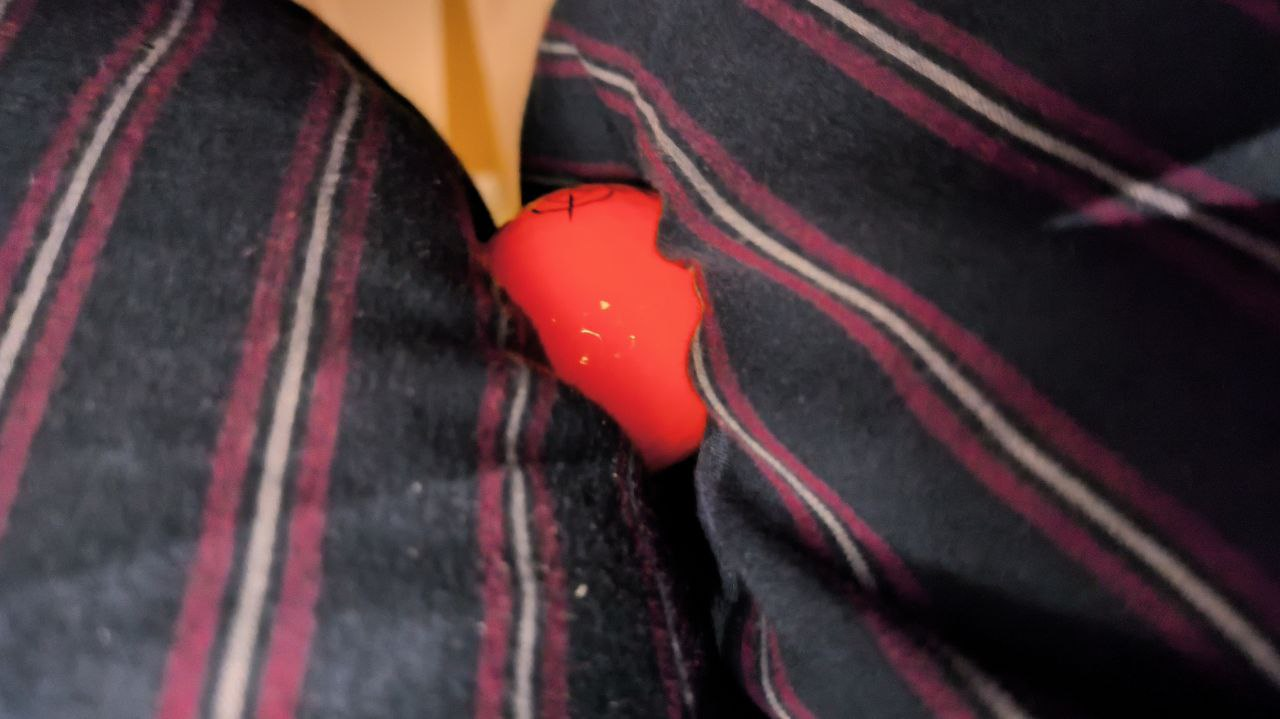orange_ball: (489, 184, 704, 476)
